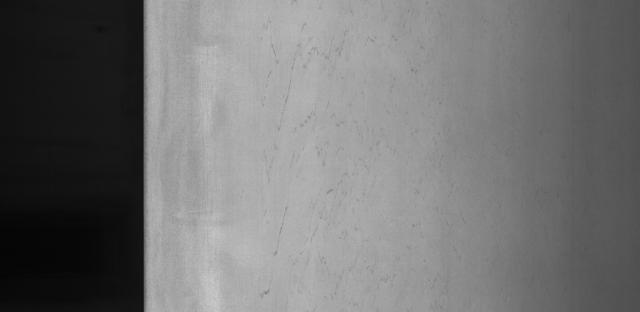silk_spot: (240, 5, 405, 293)
